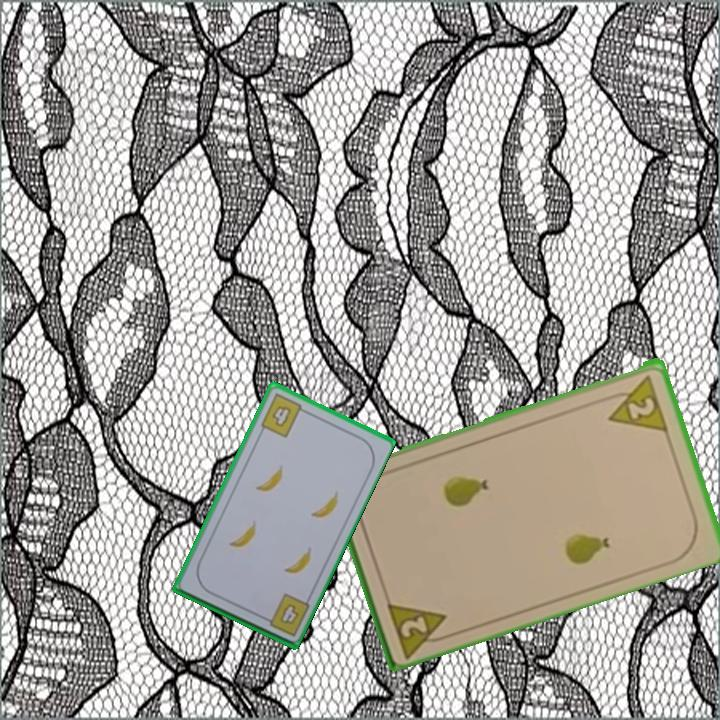2p: (383, 595, 456, 658), (599, 371, 671, 433)
4b: (256, 390, 310, 441), (258, 590, 312, 639)
